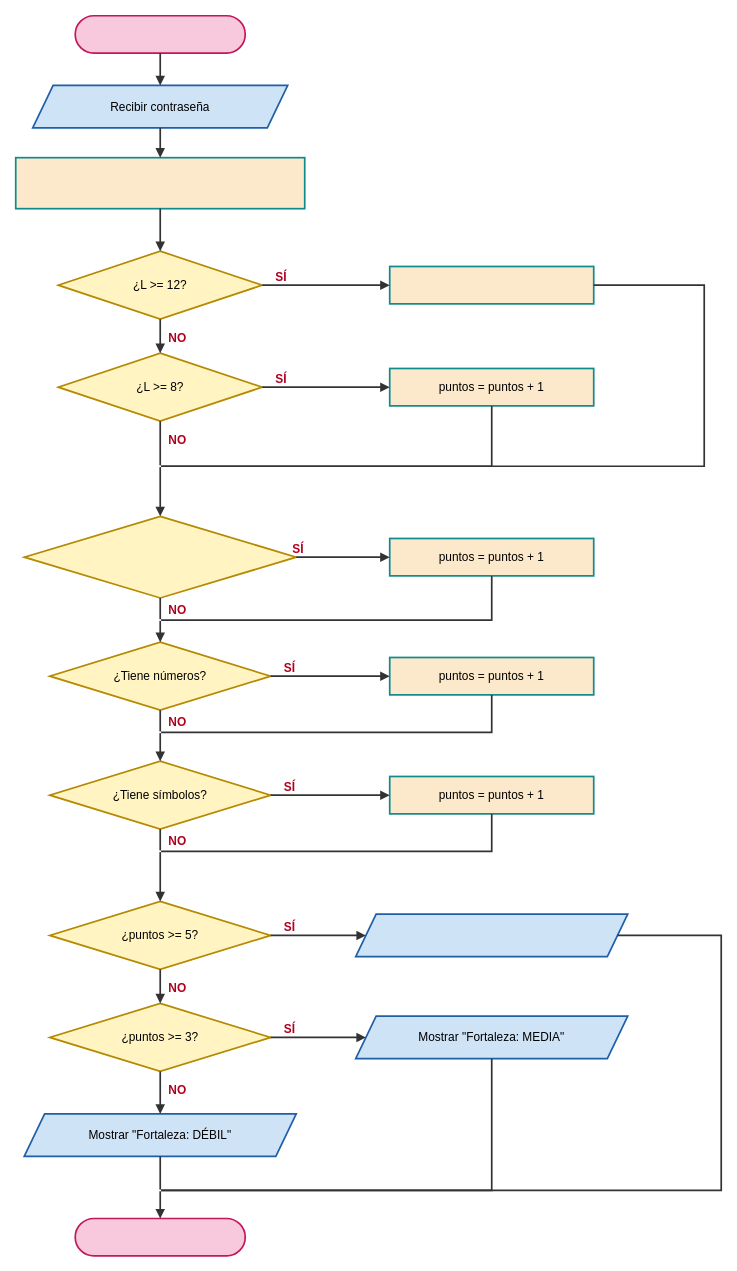
This 737x1271 diagram has some shape labels left out. The shapes that lost their labels are listed below. From the top down, each one's centre as x and y in pixels, then its label:
pixel 160 34: INICIO
pixel 159 182: puntos = 0 L = longitud(contrasena)
pixel 491 284: puntos = puntos + 2
pixel 160 556: ¿Tiene mayúsculas y minúsculas?
pixel 491 935: Mostrar "Fortaleza: FUERTE"
pixel 160 1236: FIN
